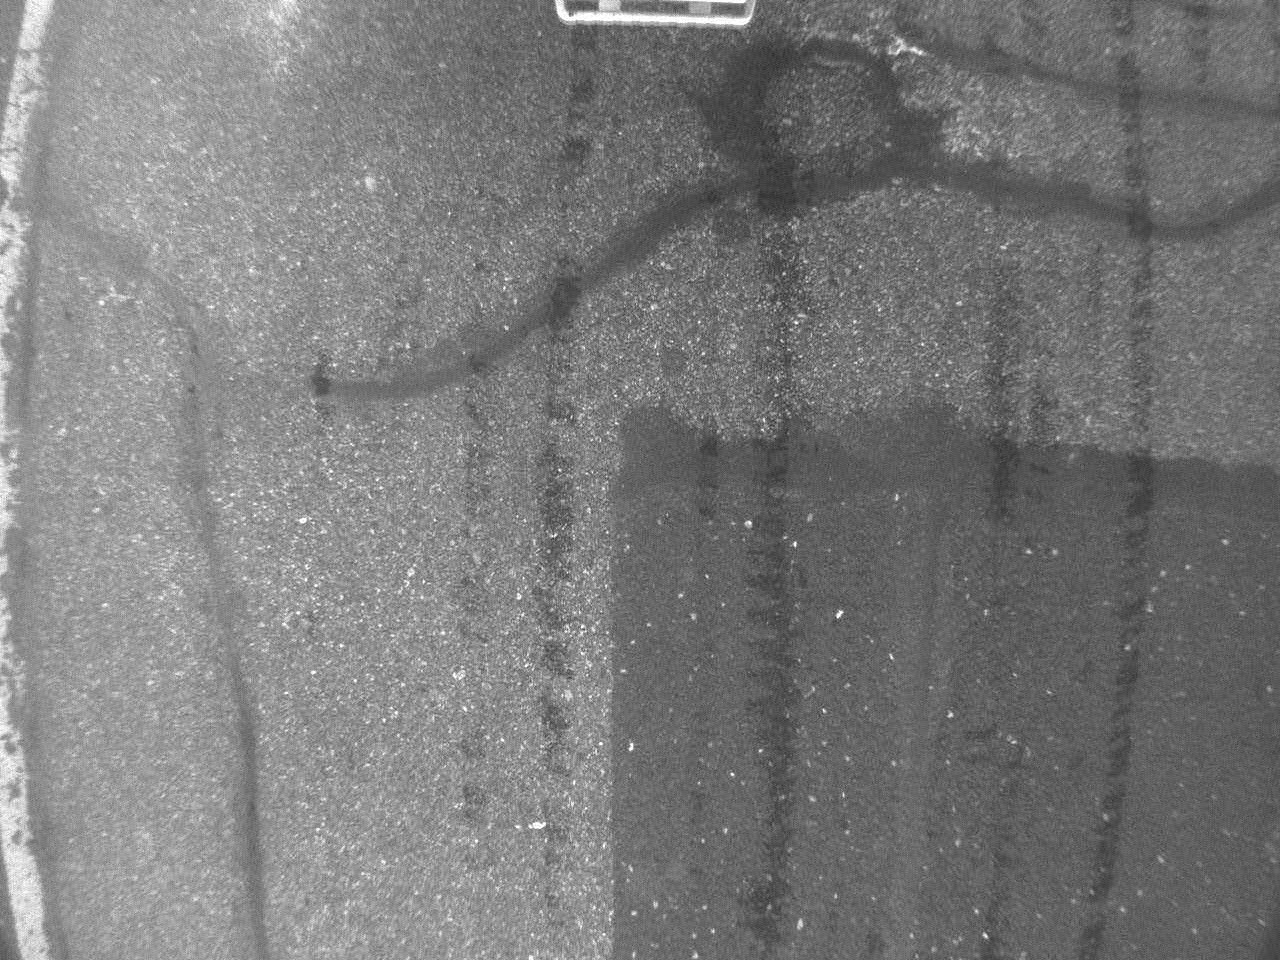sealed: (296, 20, 1272, 410)
